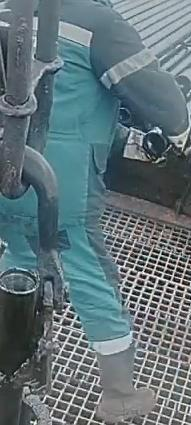vest: (22, 4, 151, 225)
